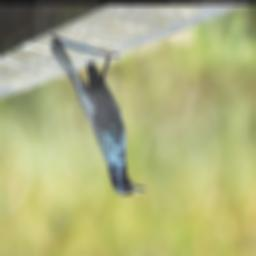Crow: (47, 35, 147, 197)
